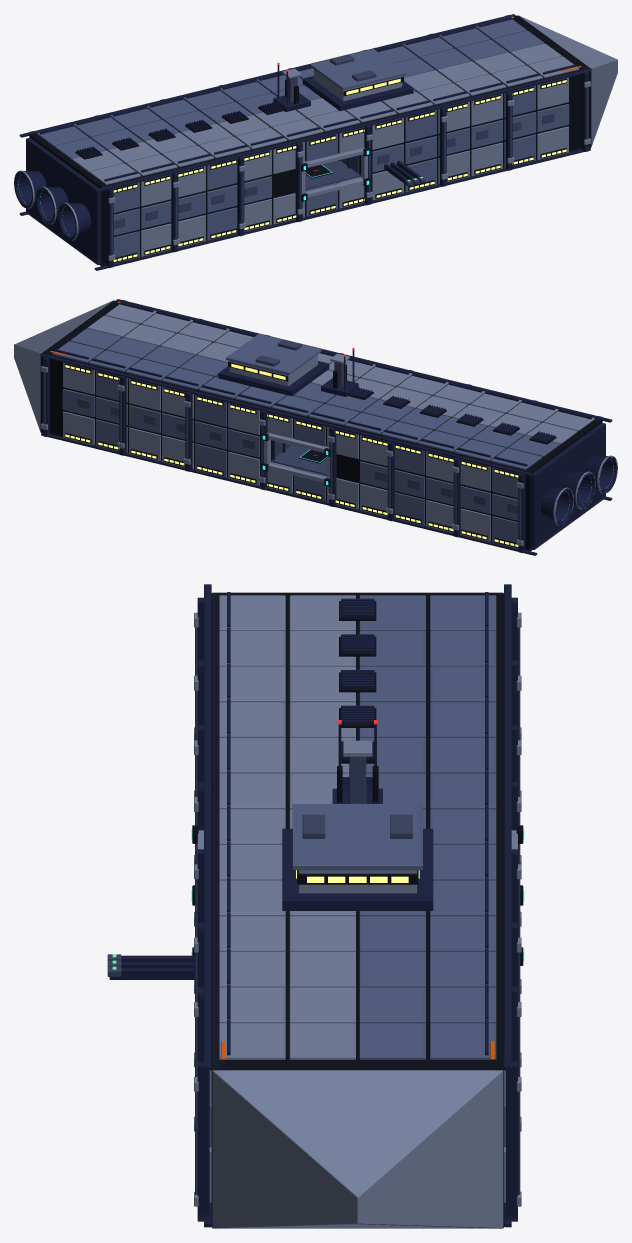
Rendered from cargo_carrier.glb.
The picture shows the model from 3 angles, top to bottom: view 1: azimuth 30°, elevation 25°; view 2: azimuth 150°, elevation 25°; view 3: azimuth 270°, elevation 25°; orthographic projection. The views are drawn at different scales.
Visible parts, largest first — view 1: hull, glass, interior; view 2: hull, glass, interior; view 3: hull.
Part boxes in pixels (x1,y1,x2,y2): hull: (14, 14, 617, 270); glass: (113, 78, 566, 261); interior: (305, 155, 360, 190); hull: (14, 299, 617, 555); glass: (65, 363, 518, 546); interior: (271, 440, 326, 475); hull: (107, 584, 523, 1228).
Bounding box in the file's own units: 8148 × 1670 × 2570.
Materials: 4 (4 with a texture image).
